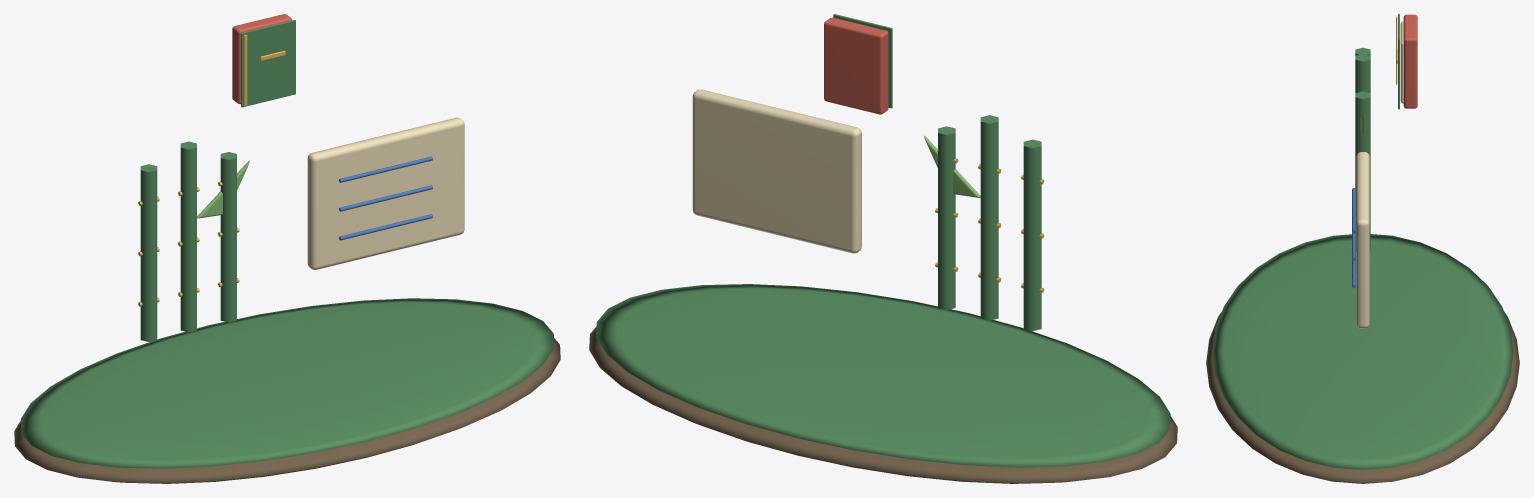
Rendered from complete-third-bamboo-banner-writing.glb.
The picture shows the model from 3 angles, left to right: view 1: azimuth 30°, elevation 25°; view 2: azimuth 150°, elevation 25°; view 3: azimuth 270°, elevation 25°; orthographic projection. The views are drawn at different scales.
Visible parts, largest first — view 1: complete-third-bamboo-banner-writing_surface_01, complete-third-bamboo-banner-writing_surface_04, complete-third-bamboo-banner-writing_surface_00, complete-third-bamboo-banner-writing_surface_05, complete-third-bamboo-banner-writing_surface_06, complete-third-bamboo-banner-writing_surface_02; view 2: complete-third-bamboo-banner-writing_surface_01, complete-third-bamboo-banner-writing_surface_04, complete-third-bamboo-banner-writing_surface_00, complete-third-bamboo-banner-writing_surface_06; view 3: complete-third-bamboo-banner-writing_surface_01, complete-third-bamboo-banner-writing_surface_00, complete-third-bamboo-banner-writing_surface_04, complete-third-bamboo-banner-writing_surface_06, complete-third-bamboo-banner-writing_surface_05.
Part boxes in pixels (box(x1,y1,x2,y2)): complete-third-bamboo-banner-writing_surface_01: box(21, 20, 553, 468); complete-third-bamboo-banner-writing_surface_04: box(307, 117, 464, 269); complete-third-bamboo-banner-writing_surface_00: box(14, 338, 560, 483); complete-third-bamboo-banner-writing_surface_05: box(339, 156, 432, 240); complete-third-bamboo-banner-writing_surface_06: box(232, 14, 292, 104); complete-third-bamboo-banner-writing_surface_02: box(138, 34, 285, 306); complete-third-bamboo-banner-writing_surface_01: box(596, 14, 1170, 467); complete-third-bamboo-banner-writing_surface_04: box(692, 89, 861, 253); complete-third-bamboo-banner-writing_surface_00: box(589, 326, 1177, 483); complete-third-bamboo-banner-writing_surface_06: box(824, 17, 888, 114); complete-third-bamboo-banner-writing_surface_01: box(1212, 14, 1513, 469); complete-third-bamboo-banner-writing_surface_00: box(1206, 312, 1519, 483); complete-third-bamboo-banner-writing_surface_04: box(1356, 21, 1403, 328); complete-third-bamboo-banner-writing_surface_06: box(1403, 14, 1417, 108); complete-third-bamboo-banner-writing_surface_05: box(1352, 188, 1355, 288).
Size of the model in its own units: 4.56 by 3.09 by 2.5.
